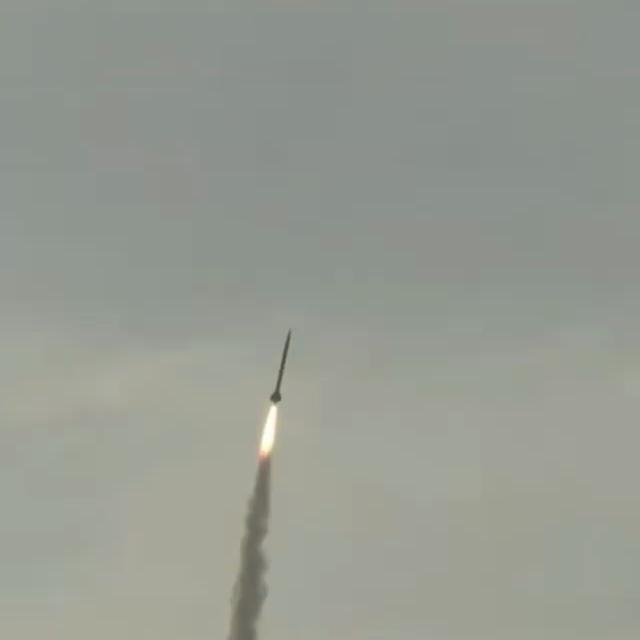rocket: (269, 331, 293, 403)
smoke_trail_with_rocket: (226, 332, 291, 640)
